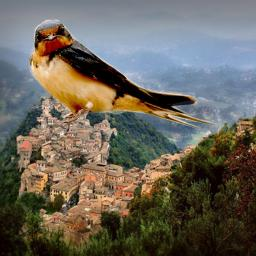Swallow: (27, 19, 218, 136)
